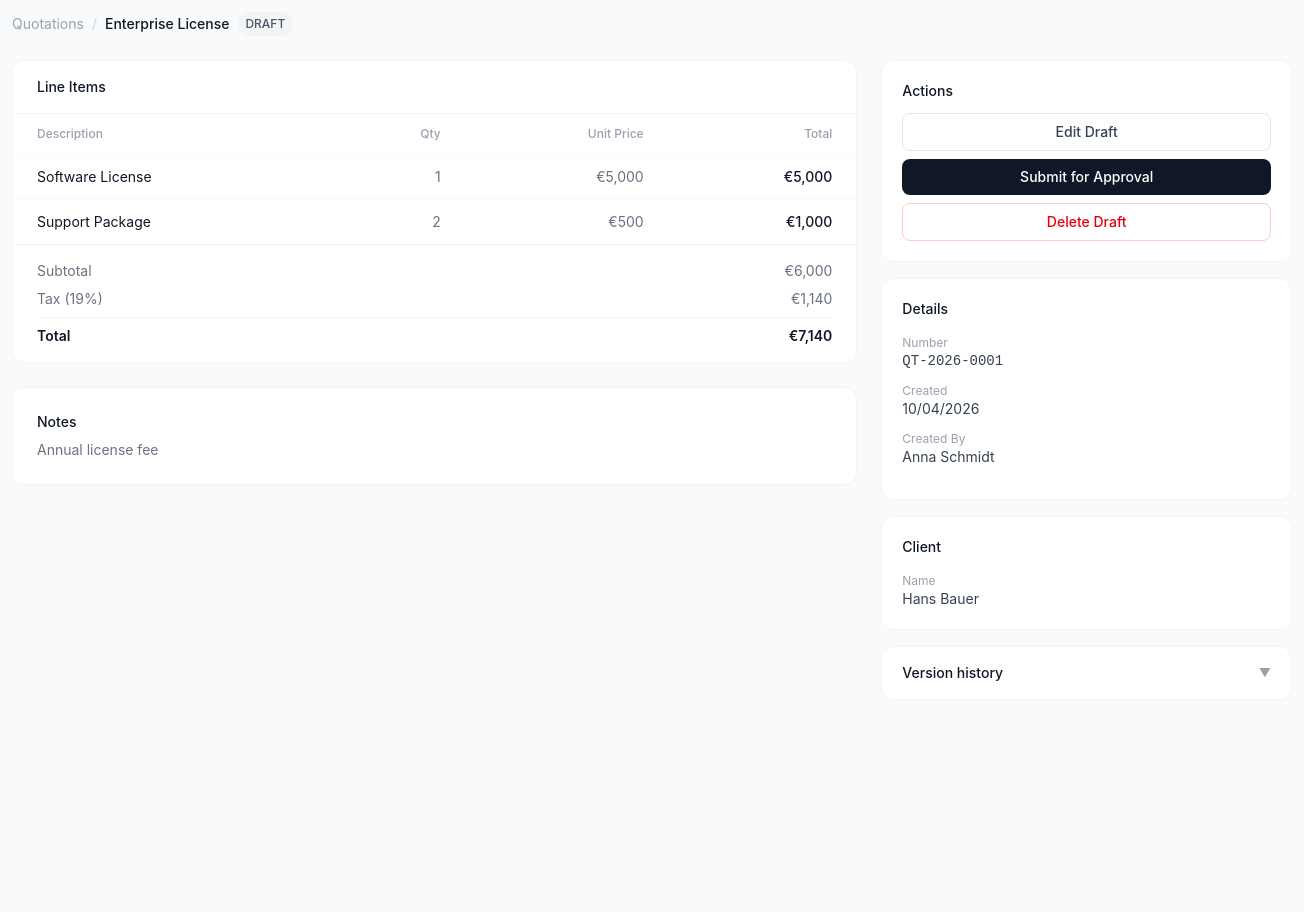
QuotationDetailPage › StatusActions › shows toast after rep submits for approval
The image size is (1304, 912).
Step 1. Click the button "Submit for Approval" → point(1087, 177), box [902,159,1271,195]
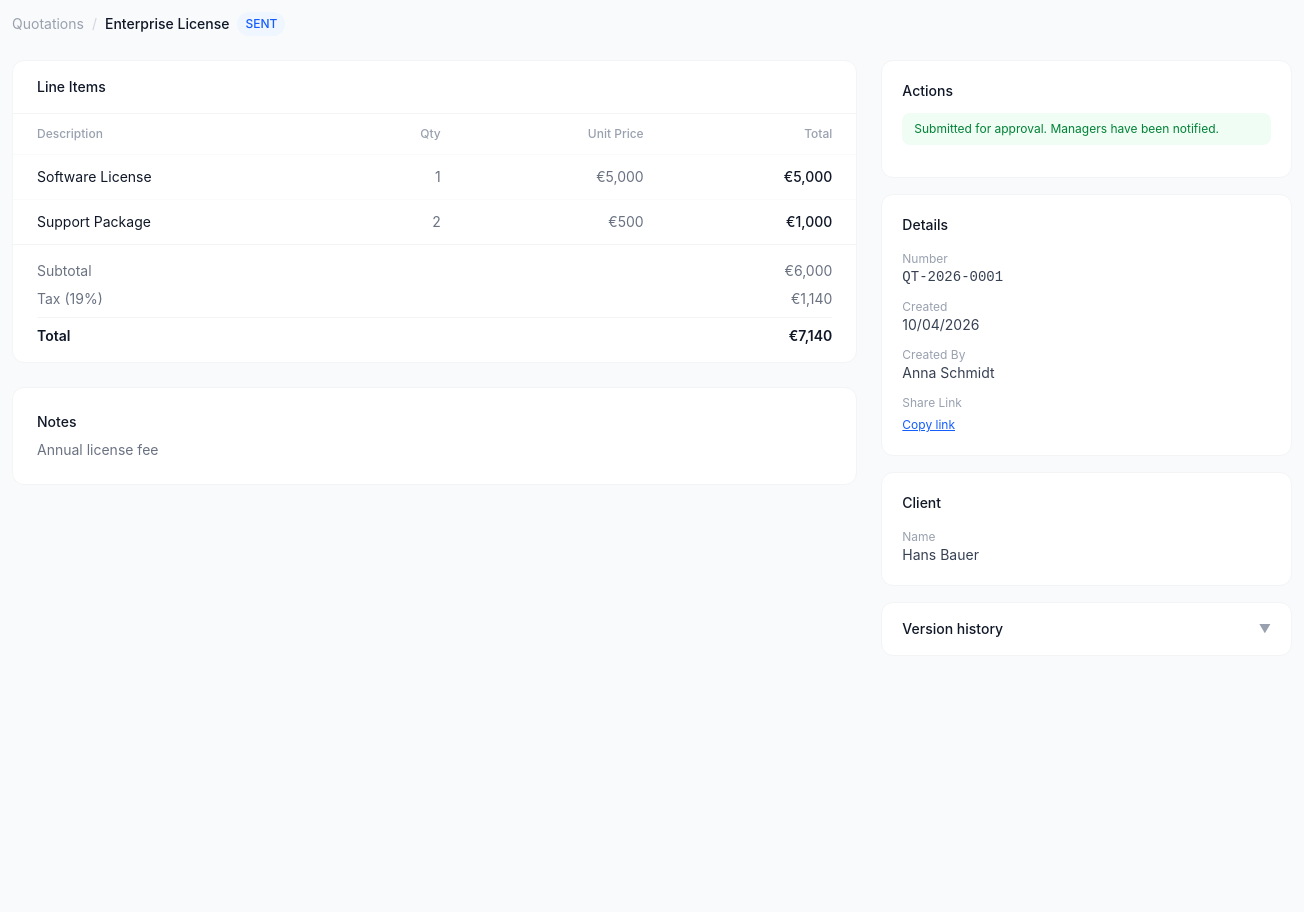
Check: the text "Submitted for approval. Managers have been notified." is shown, box [902,113,1271,145]
